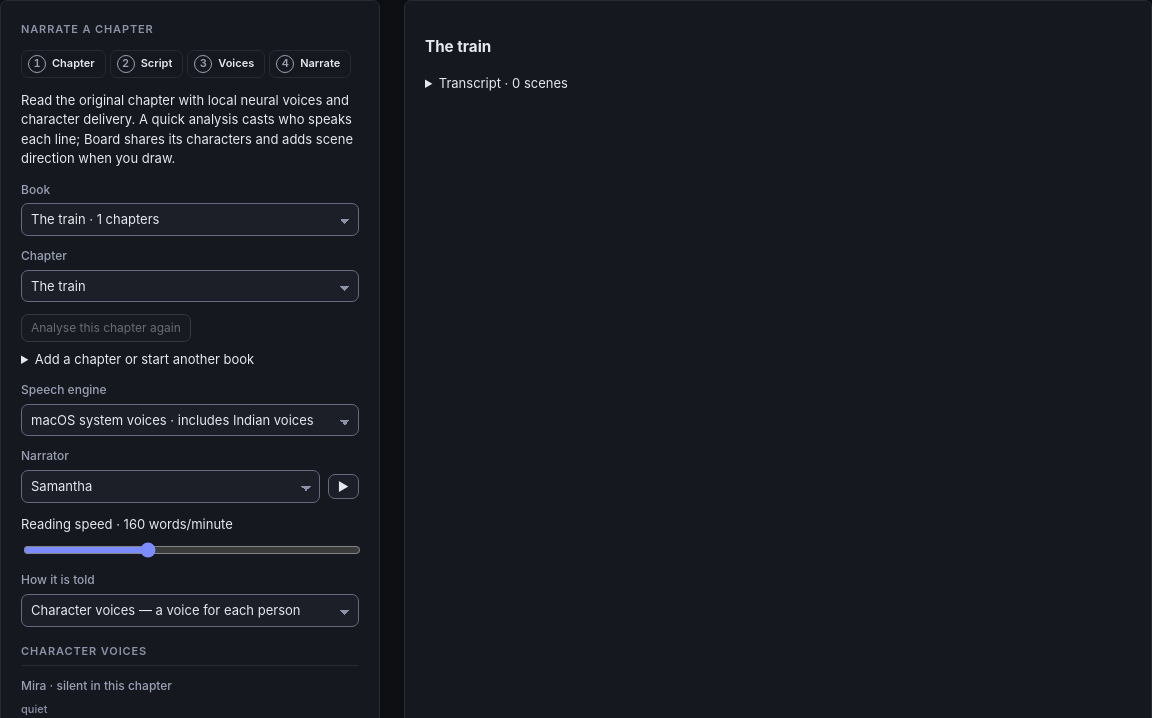
it: neural audiobook › requires a downloaded model and resets incompatible system voice assignments
Select "Qwen3-TTS · expressive, slower" in the dropdown labelled "Speech engine" at x=190, y=420, box [21,404,359,436]
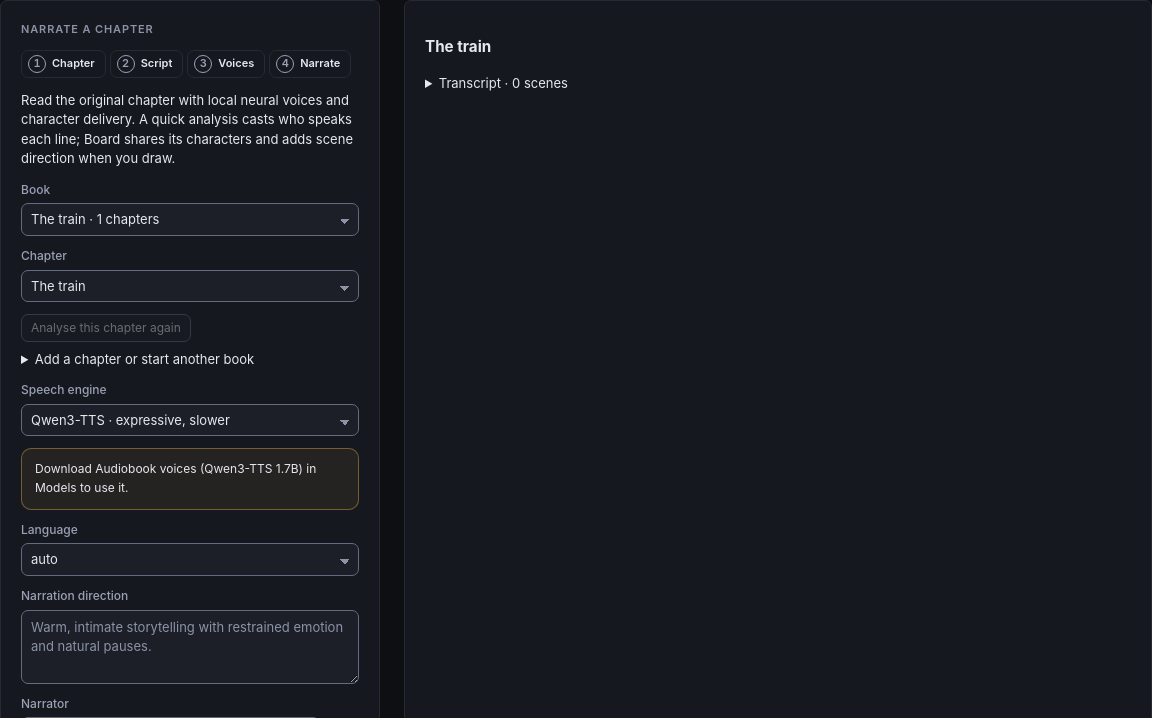
Check: the text "Download Audiobook voices" is shown, box [21,448,359,510]
Check: the text box labelled "Narration direction" is shown, box [21,610,359,684]
